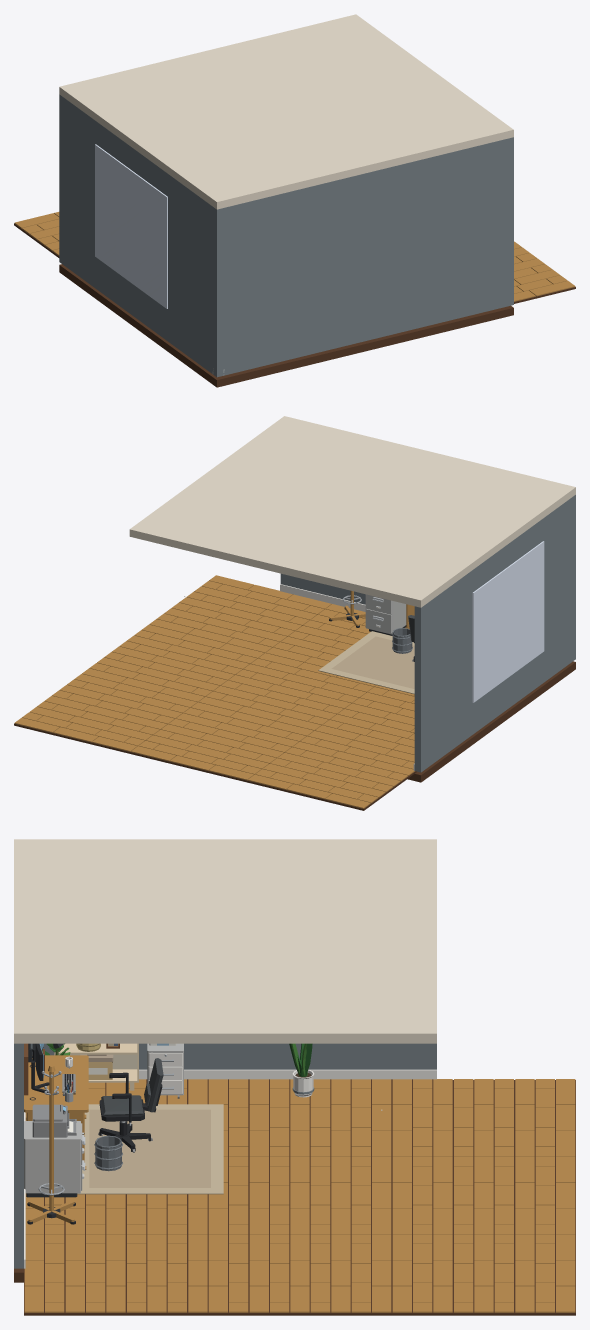
The model's file is SM_LPI_Room_Office.fbx.
The picture shows the model from 3 angles, top to bottom: view 1: azimuth 30°, elevation 25°; view 2: azimuth 150°, elevation 25°; view 3: azimuth 270°, elevation 25°; orthographic projection. The views are drawn at different scales.
Parts seen in each view (by area): view 1: SM_LPI_Room_Office, SM_LPI_Room_OfficeGlass, SM_LPI_Floor_PlankOak_03.007, SM_LPI_Floor_PlankOak_03.003; view 2: SM_LPI_Room_Office, SM_LPI_Room_OfficeGlass, SM_LPI_Floor_PlankOak_03.006, SM_LPI_Floor_PlankOak_03.009, SM_LPI_Floor_PlankOak_03.003, SM_LPI_Floor_PlankOak_03.008, SM_LPI_Floor_PlankOak_03.007, SM_LPI_Floor_PlankOak_03.005, SM_LPI_Floor_PlankOak_03.002, SM_LPI_Text_RugRect_01.001, SM_LPI_Floor_PlankOak_03.004, SM_LPI_Office_FileCabinet_01.001; view 3: SM_LPI_Room_Office, SM_LPI_Floor_PlankOak_03.008, SM_LPI_Floor_PlankOak_03.009, SM_LPI_Floor_PlankOak_03.007, SM_LPI_Floor_PlankOak_03.006, SM_LPI_Floor_PlankOak_03.003, SM_LPI_Floor_PlankOak_03.005, SM_LPI_Floor_PlankOak_03.002, SM_LPI_Text_RugRect_01.001, SM_LPI_Floor_PlankOak_03.004, SM_LPI_Office_FileCabinet_01.001, SM_LPI_Office_ChairTask_01.001 (+9 smaller).
Part boxes in pixels (x1,y1,x2,y2): SM_LPI_Room_Office: (59,14,513,387); SM_LPI_Room_OfficeGlass: (95,144,167,308); SM_LPI_Floor_PlankOak_03.007: (514,241,575,303); SM_LPI_Floor_PlankOak_03.003: (14,212,59,257); SM_LPI_Room_Office: (129,416,575,782); SM_LPI_Room_OfficeGlass: (472,541,544,702); SM_LPI_Floor_PlankOak_03.006: (130,702,313,782); SM_LPI_Floor_PlankOak_03.009: (14,674,197,753); SM_LPI_Floor_PlankOak_03.003: (247,731,416,810); SM_LPI_Floor_PlankOak_03.008: (82,624,264,702); SM_LPI_Floor_PlankOak_03.007: (149,575,331,652); SM_LPI_Floor_PlankOak_03.005: (199,653,376,730); SM_LPI_Floor_PlankOak_03.002: (315,685,414,754); SM_LPI_Text_RugRect_01.001: (318,631,414,694); SM_LPI_Floor_PlankOak_03.004: (266,604,406,666); SM_LPI_Office_FileCabinet_01.001: (365,594,406,635); SM_LPI_Room_Office: (14,839,436,1282); SM_LPI_Floor_PlankOak_03.008: (208,1234,391,1315); SM_LPI_Floor_PlankOak_03.009: (392,1234,575,1315); SM_LPI_Floor_PlankOak_03.007: (24,1234,207,1315); SM_LPI_Floor_PlankOak_03.006: (392,1156,575,1235); SM_LPI_Floor_PlankOak_03.003: (392,1079,575,1157); SM_LPI_Floor_PlankOak_03.005: (208,1156,391,1235); SM_LPI_Floor_PlankOak_03.002: (208,1079,391,1157); SM_LPI_Text_RugRect_01.001: (77,1104,223,1194); SM_LPI_Floor_PlankOak_03.004: (25,1193,207,1235); SM_LPI_Office_FileCabinet_01.001: (24,1121,85,1197); SM_LPI_Office_ChairTask_01.001: (98,1058,163,1152).
Bounding box in the file's own units: 6.26 × 2.98 × 6.11.
